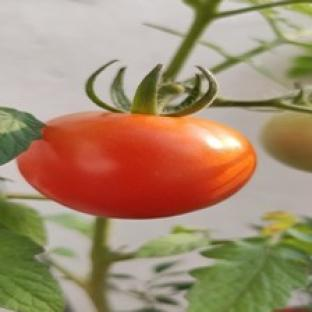Tomato: (17, 112, 256, 218), (261, 112, 311, 171), (276, 307, 311, 311)
